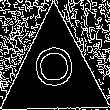O_W: (31, 50, 78, 95)
